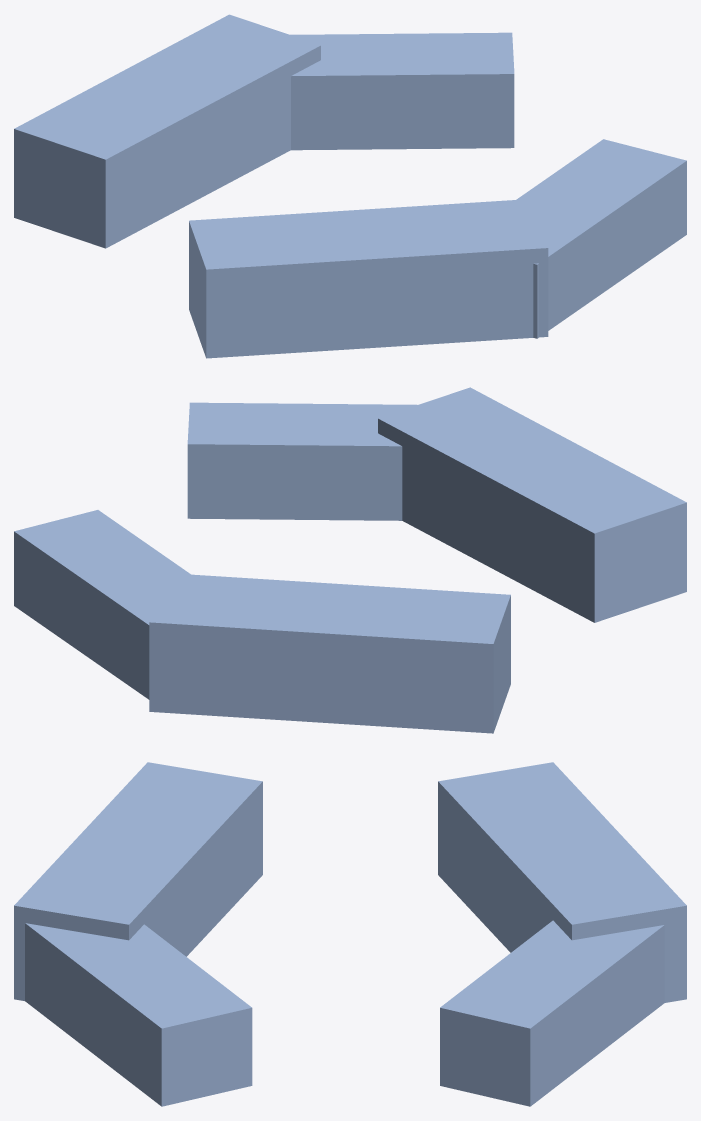
File: tongs.fbx
3 views of the same model, one above another, from view 1: azimuth 30°, elevation 25°; view 2: azimuth 150°, elevation 25°; view 3: azimuth 270°, elevation 25° (orthographic). The views are drawn at different scales.
Parts seen in each view (by area): view 1: Tongs; view 2: Tongs; view 3: Tongs.
Part boxes in pixels (left/top/right/bottom): Tongs: left=14, top=14, right=686, bottom=358; Tongs: left=14, top=387, right=686, bottom=733; Tongs: left=14, top=762, right=686, bottom=1106.
Size of the model in its own units: 192 by 33.42 by 217.
